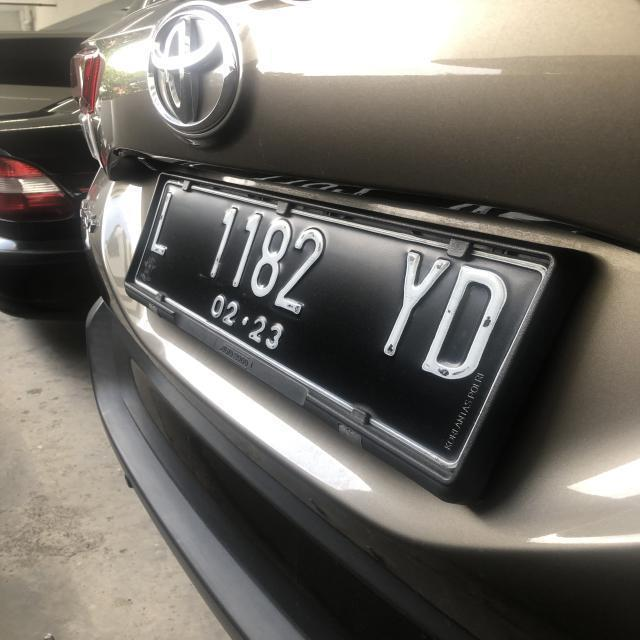1: (202, 203, 240, 282), (230, 207, 262, 289)
2: (279, 226, 328, 314)
8: (253, 218, 298, 300)
D: (420, 260, 510, 384)
L: (148, 192, 180, 257)
Y: (376, 242, 451, 352)
